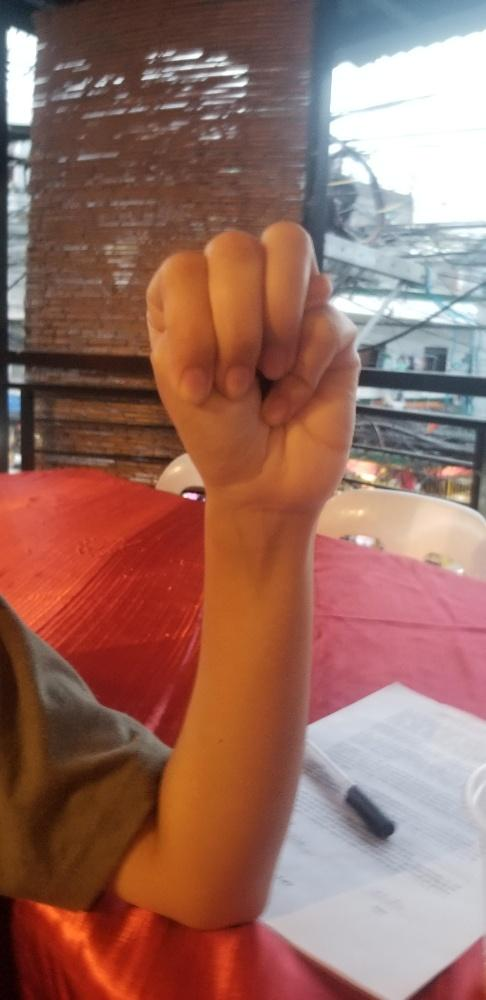m: (143, 218, 361, 500)
